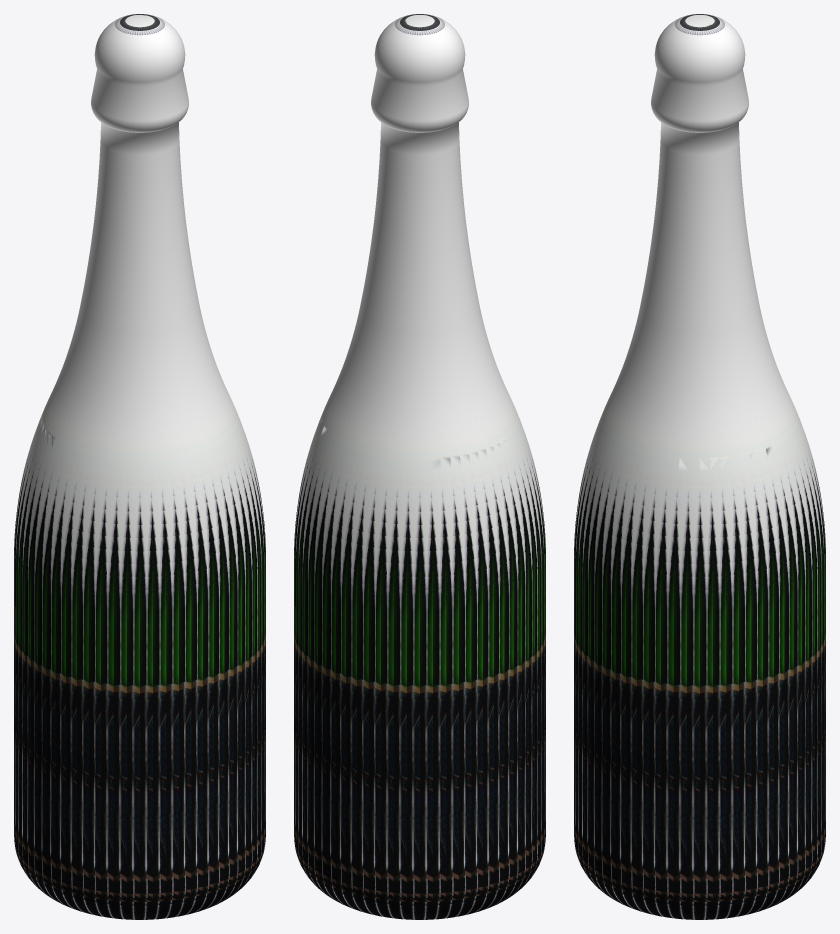
The model's file is cava2.glb.
3 views of the same model, side by side, from view 1: azimuth 30°, elevation 25°; view 2: azimuth 150°, elevation 25°; view 3: azimuth 270°, elevation 25° (orthographic).
Parts seen in each view (by area): view 1: cava2; view 2: cava2; view 3: cava2.
Part boxes in pixels (box(x1,y1,x2,y2)): cava2: box(14, 14, 265, 919); cava2: box(294, 14, 545, 919); cava2: box(574, 14, 825, 919).
Size of the model in its own units: 1.57 by 5.91 by 1.57.
Materials: 1 (1 with a texture image).
